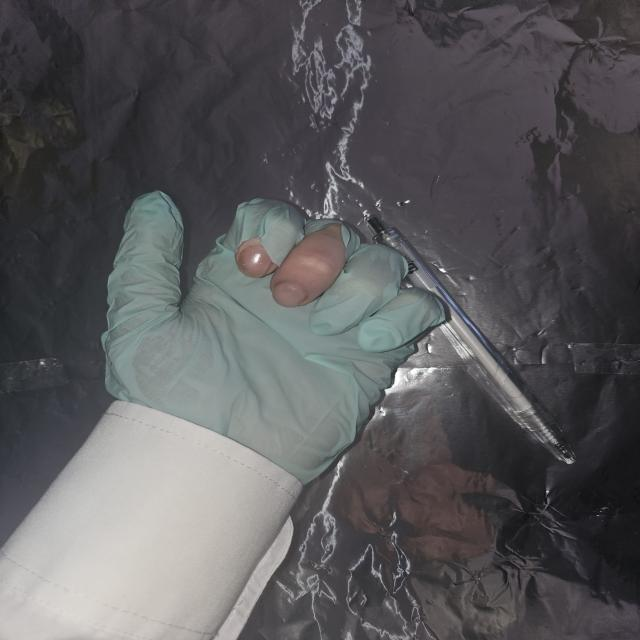gloves_damaged: (101, 189, 452, 485)
